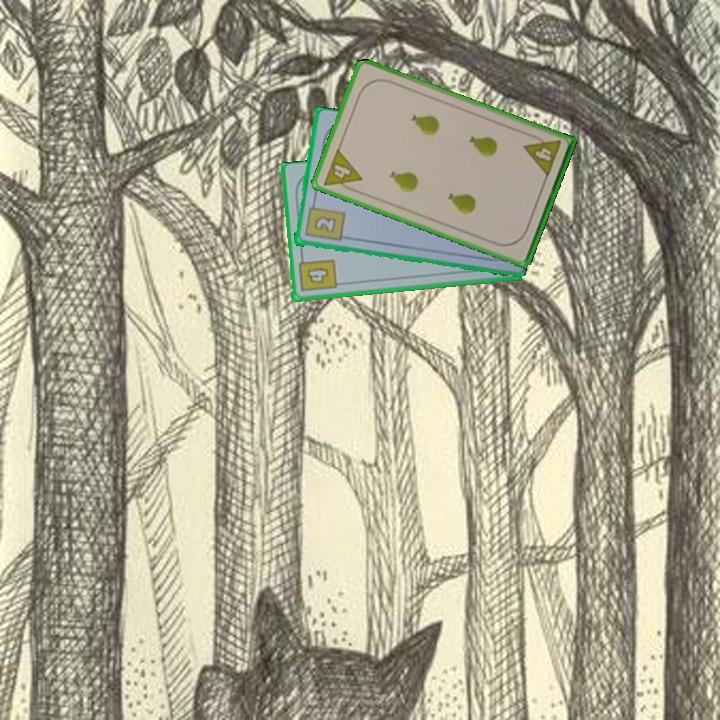2b: (301, 198, 347, 244)
4b: (295, 252, 339, 295)
4p: (319, 145, 365, 196), (520, 130, 563, 180)
